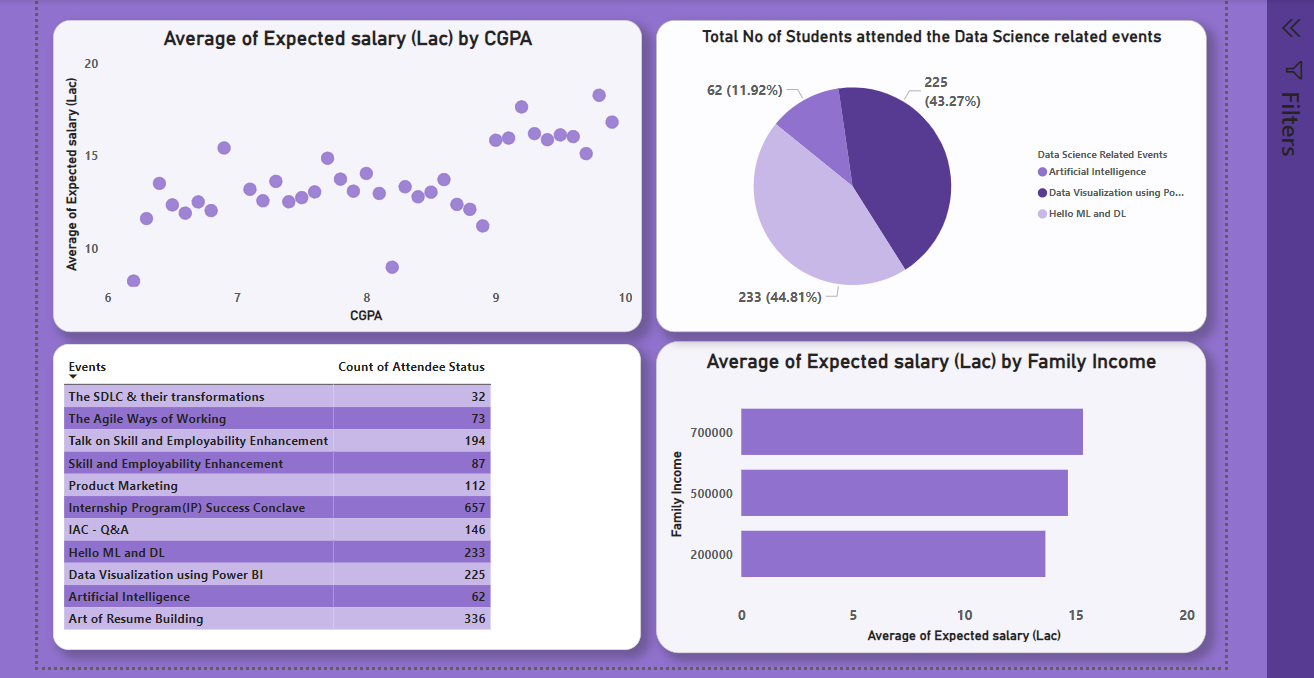

This screenshot's page, from the dashboard's own definition file:
{"tool":"powerbi","page":{"name":"Dashboard 3","canvas":[1280,720],"ordinal":2},"visuals":[{"type":"scatterChart","fields":{"X":["All Events Data.CGPA"],"Y":["Avg(All Events Data.Expected salary (Lac))"]},"box":[16.7,23.3,635,336.7],"z":0},{"type":"barChart","fields":{"Category":["All Events Data.Family Income"],"Y":["Avg(All Events Data.Expected salary (Lac))"]},"box":[666.7,368.3,593.3,336.7],"z":1000},{"type":"tableEx","fields":{"Values":["All Events Data.Events","All Events Data.Attendee Status"]},"box":[16.2,372.1,634.2,330.1],"z":2000},{"type":"pieChart","title":"Total No of Students attended the Data Science related events","fields":{"Y":["CountNonNull(All Events Data.First Name)"],"Series":["All Events Data.Events"]},"box":[666.6,22.7,593.8,336.5],"z":3000}]}

Visuals, with their boxes in screenshot pixels (x1, y1, x2, y2):
scatterChart - All Events Data.CGPA x Avg(All Events Data.Expected salary (Lac)): [50, 18, 639, 331]
barChart - All Events Data.Family Income x Avg(All Events Data.Expected salary (Lac)): [653, 338, 1204, 651]
tableEx - All Events Data.Events x All Events Data.Attendee Status: [49, 342, 638, 648]
"Total No of Students attended the Data Science related events" pieChart: [653, 18, 1204, 330]
